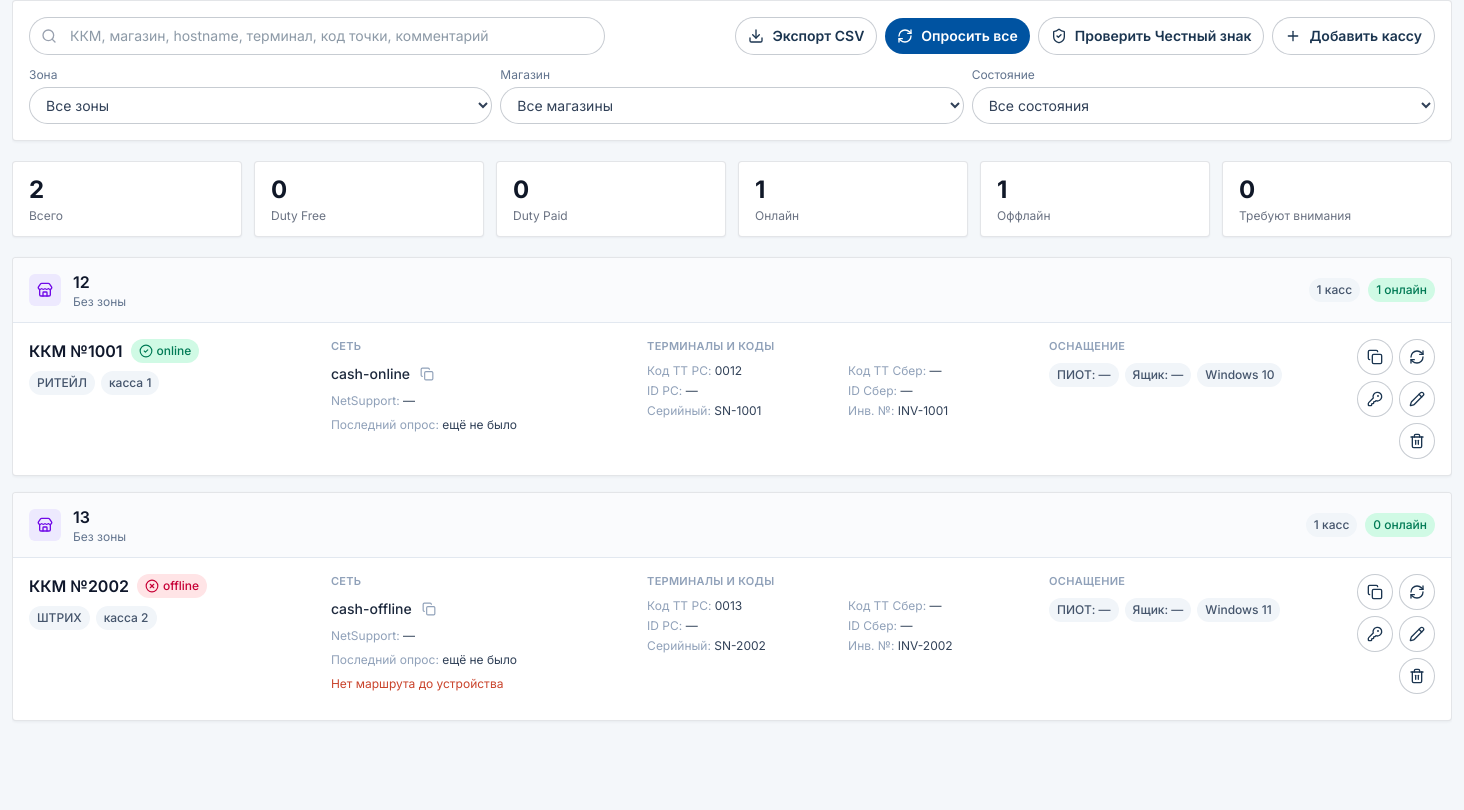
Test: CashRegistersPage › filters list by offline status
expect the text "ККМ №1001" is shown: met, box [29,339,122,363]
expect the text "ККМ №2002" is shown: met, box [29,574,129,598]
Click the button "1 Оффлайн" at [1095, 199], box [980,161,1210,237]
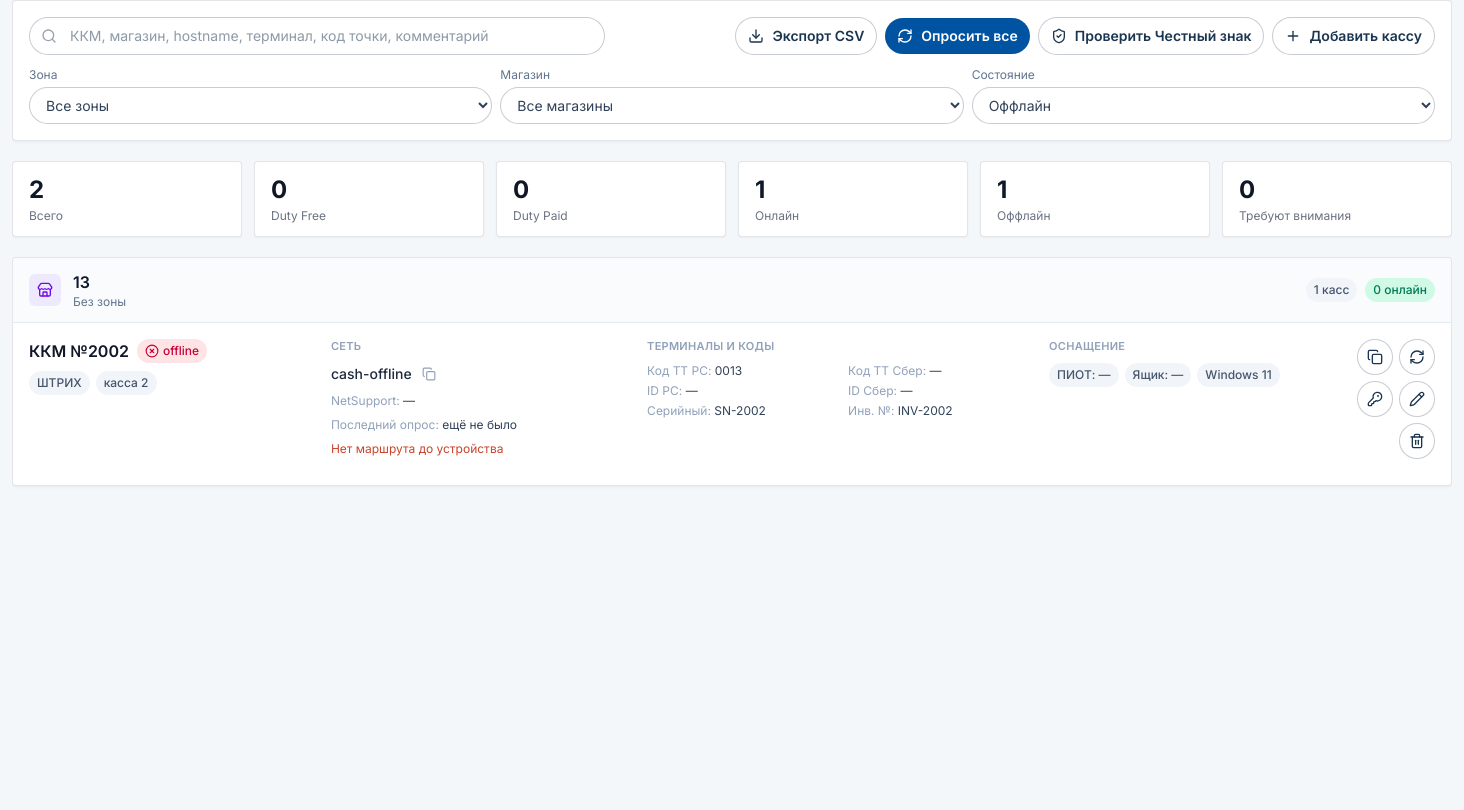
expect the text "ККМ №2002" is shown: met, box [29,339,129,363]
expect the text "ККМ №1001" is gone: met
